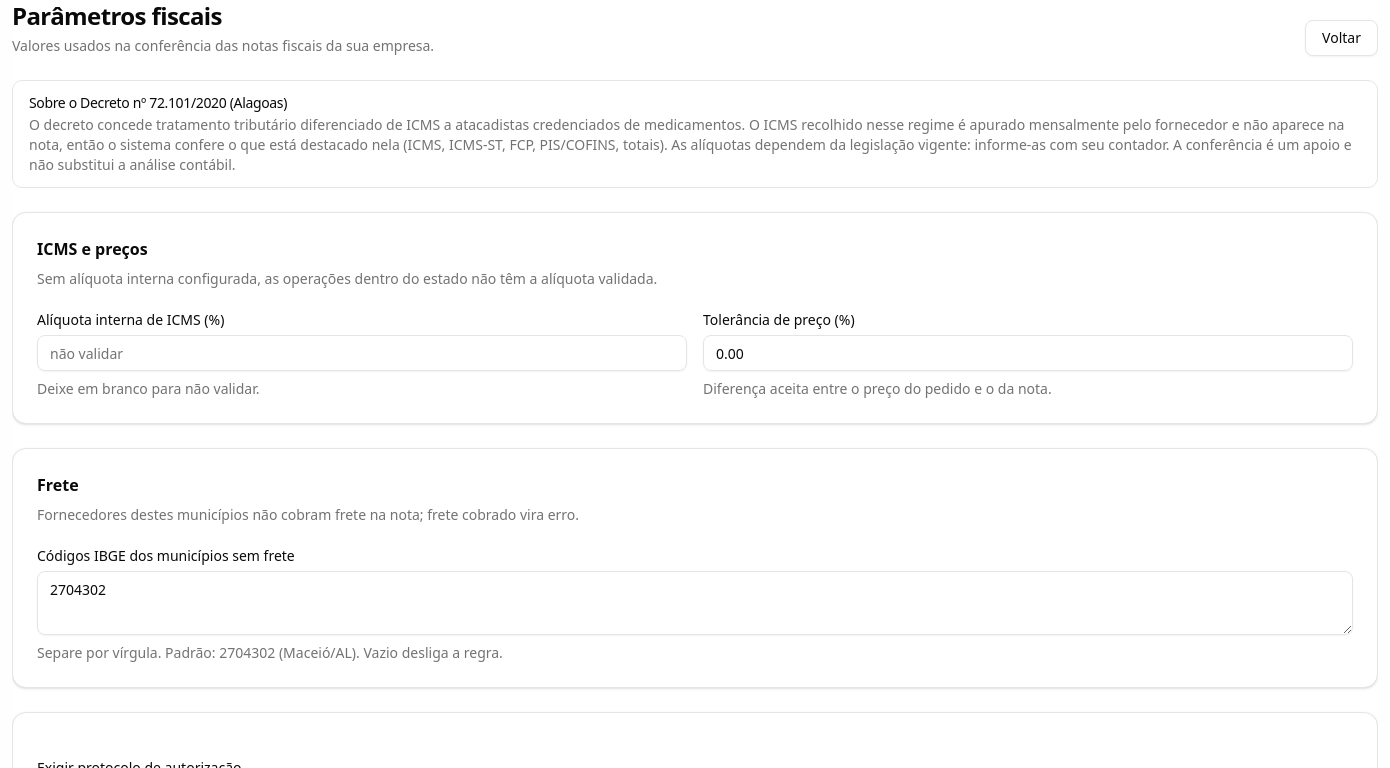
it: Parâmetros fiscais › valida código IBGE e percentuais antes de enviar
This screenshot has width=1390, height=768.
Type "150" into the field labelled "Alíquota interna de ICMS (%)" at (362, 353), box [37,335,687,371]
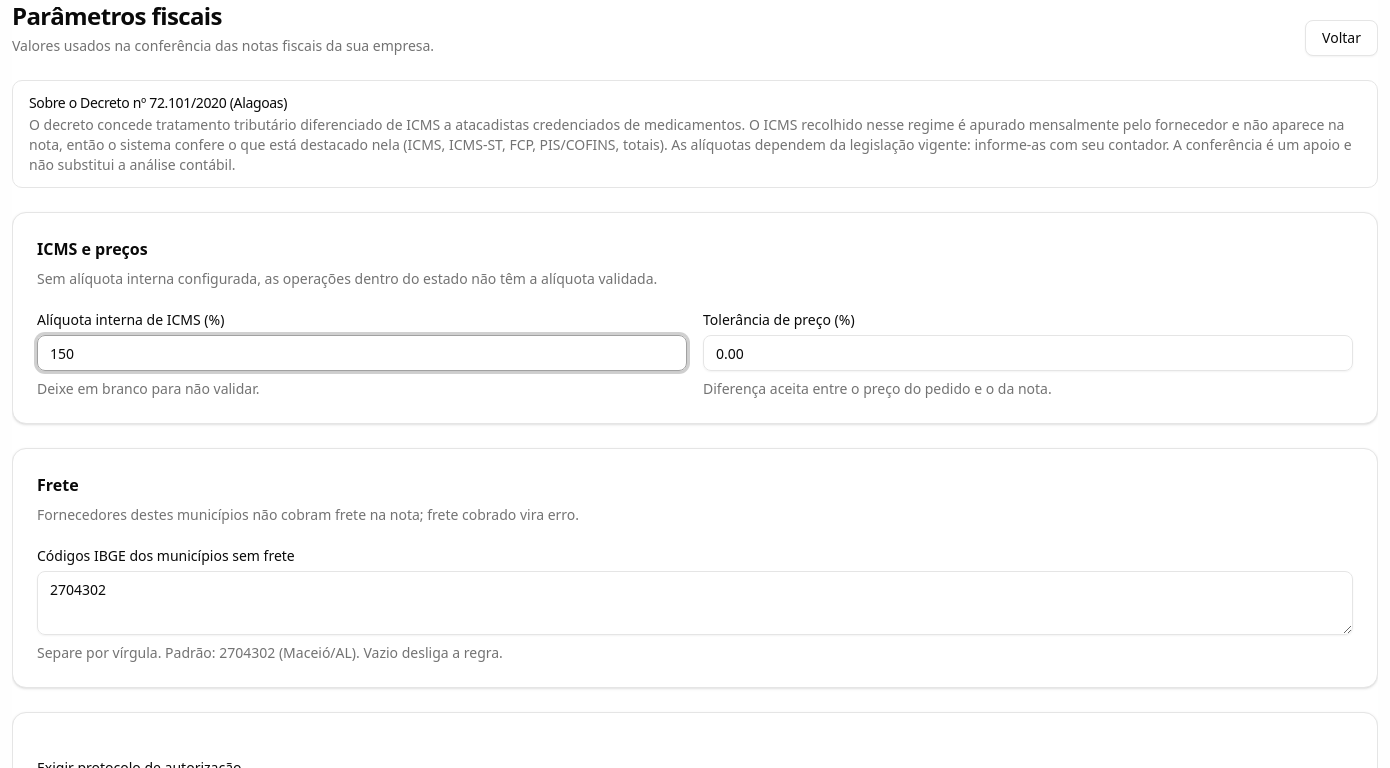
Replace the text in the text box labelled "Códigos IBGE dos municípios sem frete" with "123" at (695, 603), box [37,571,1353,635]
(page scrolled)
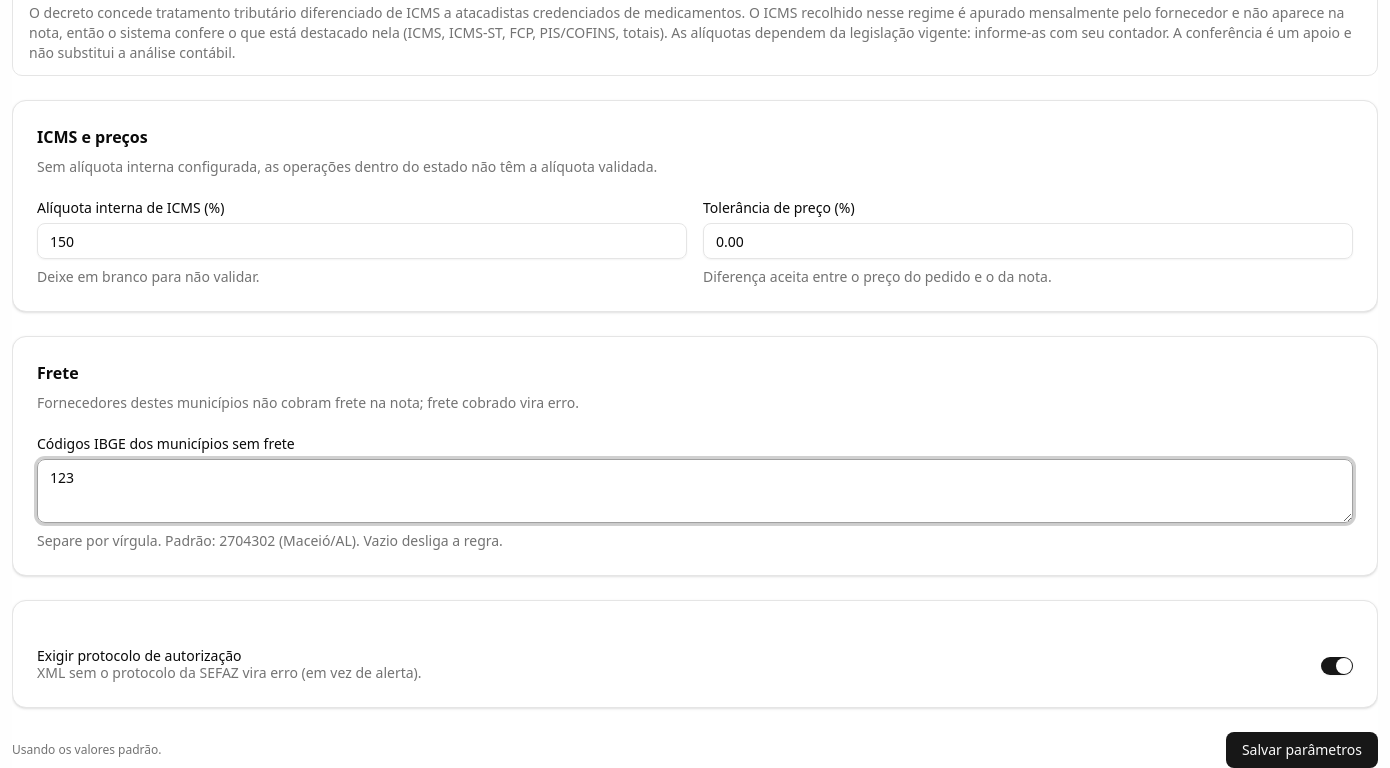
Click the button "Salvar parâmetros" at (1302, 750), box [1226,732,1378,767]
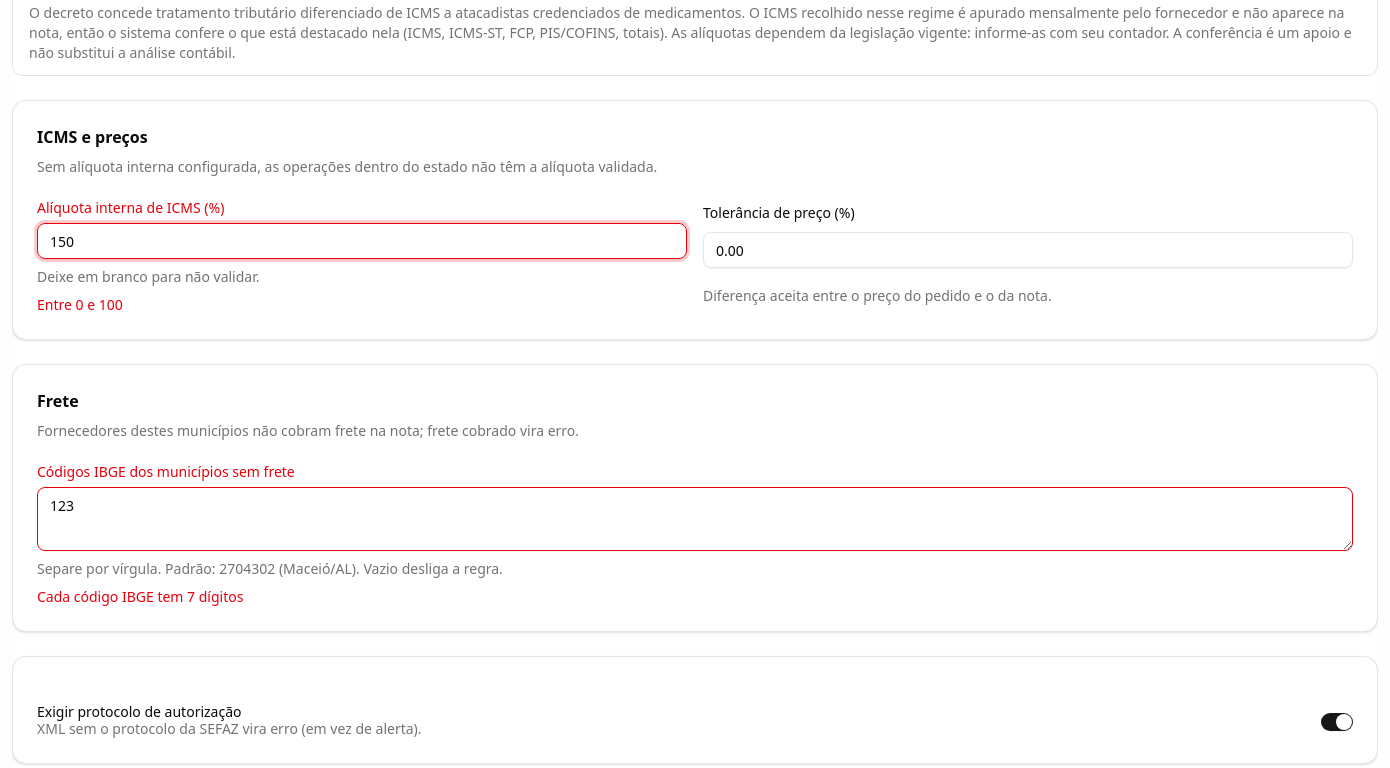
Check: the text "Entre 0 e 100" is shown, box [37,295,123,314]
Check: the text "Cada código IBGE tem 7 dígitos" is shown, box [37,587,243,606]
